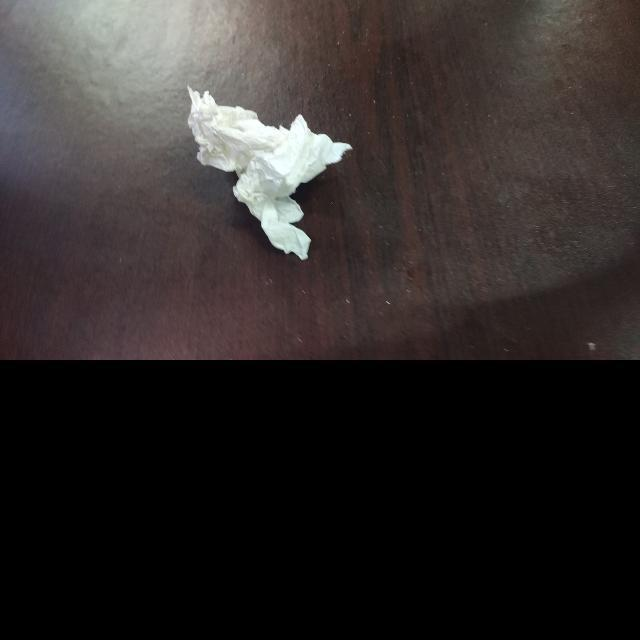kitchen paper: (176, 74, 365, 270)
